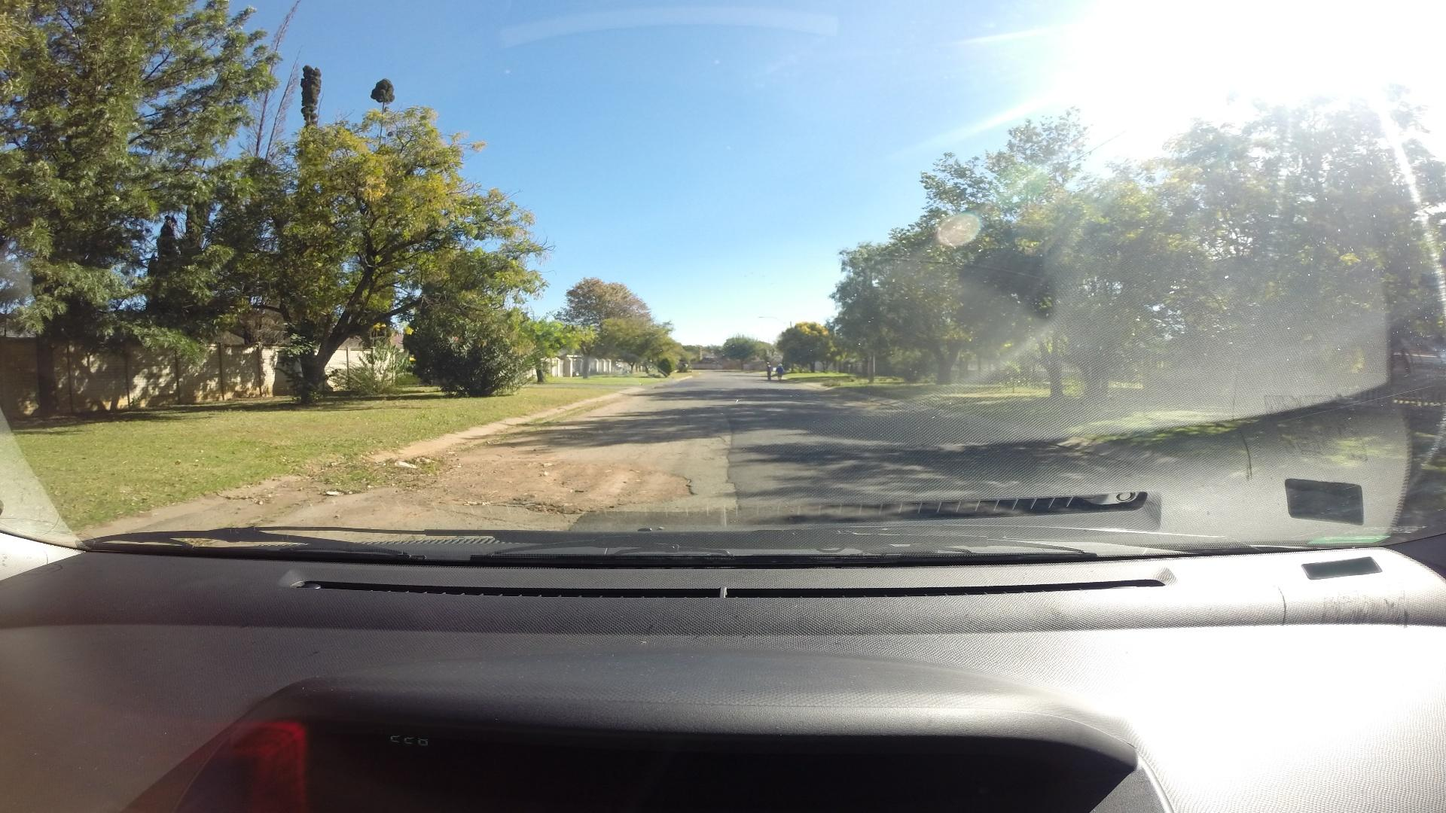pothole: (415, 452, 689, 514)
